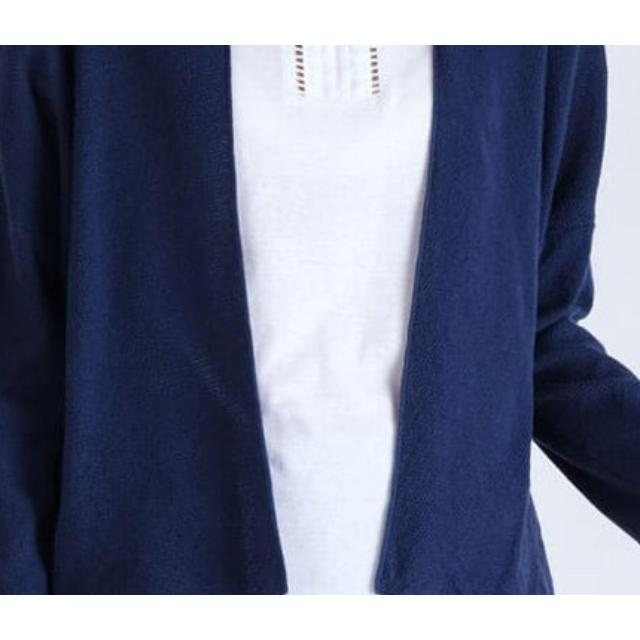cotton: (1, 45, 606, 595)
